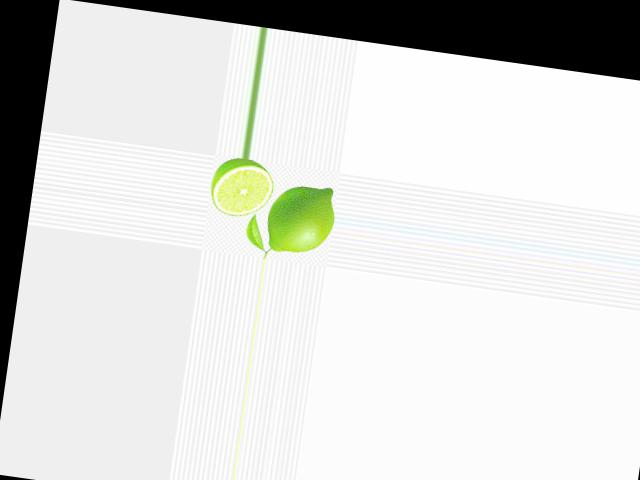lemon: (260, 176, 336, 260)
